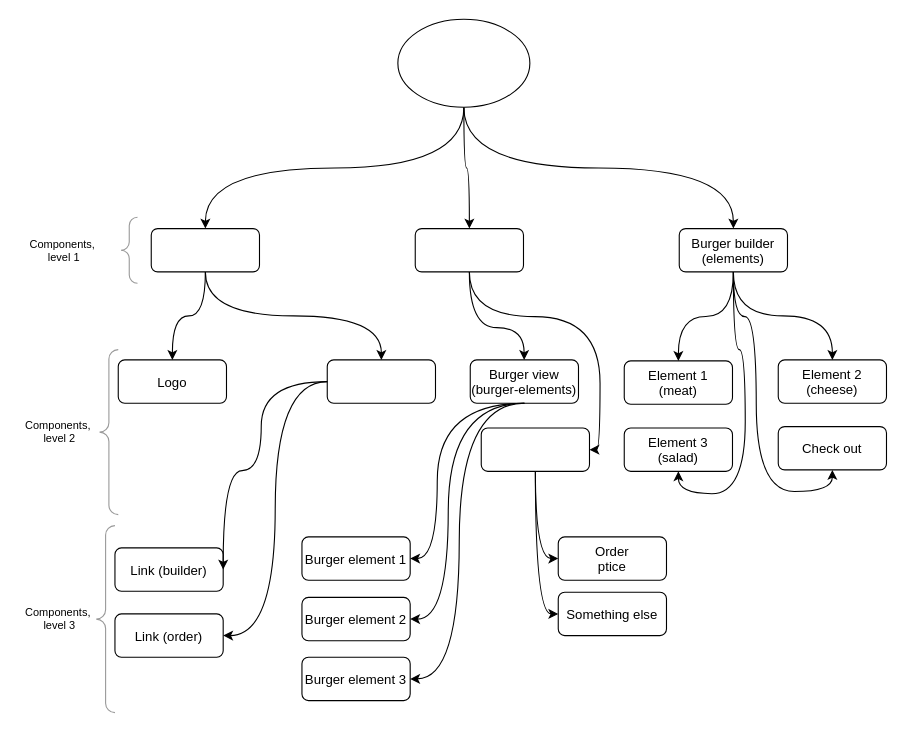
This 905x733 diagram has some shape labels left out. The shapes that lost their labels are listed below. From the top down, each one's centre as x and y in pixels, then its label:
At (463,62): "App".
At (204,249): "Header".
At (468,249): "Central part".
At (380,381): "Links".
At (534,449): "Aux info view".
